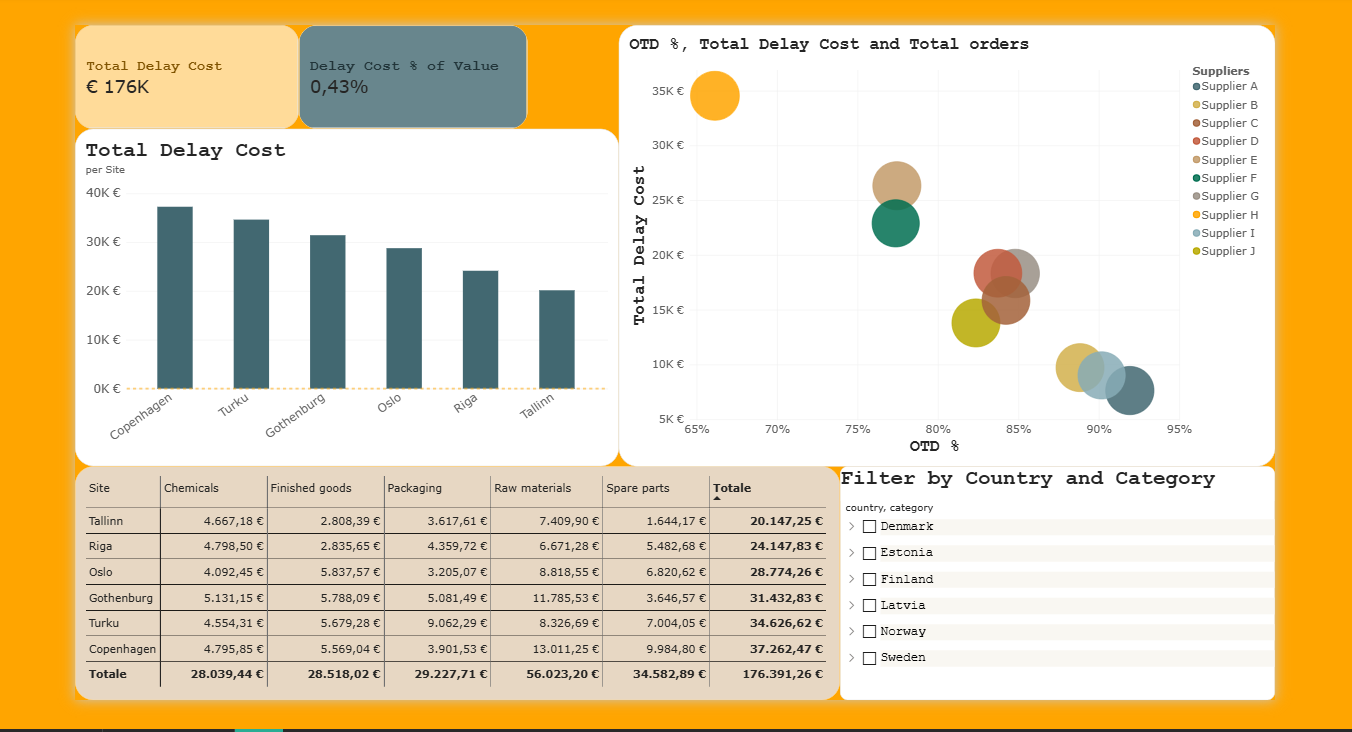

This screenshot's page, from the dashboard's own definition file:
{"tool":"powerbi","page":{"name":"Cost Impact","canvas":[1920,1080],"ordinal":1},"visuals":[{"type":"cardVisual","fields":{"Data":["_Measures.Total Delay Cost"]},"box":[0,0,358,166],"z":0},{"type":"cardVisual","title":"AVG Delay Days","fields":{"Data":["_Measures.Delay Cost % of Value"]},"box":[358,0,366,166],"z":1000},{"type":"clusteredColumnChart","fields":{"Category":["sites.site_name"],"Y":["_Measures.Total Delay Cost"]},"box":[0,166,870,540],"z":2000},{"type":"pivotTable","fields":{"Columns":["orders.category"],"Rows":["sites.site_name"],"Values":["_Measures.Total Delay Cost"]},"box":[0,706,1224,374],"z":3000},{"type":"scatterChart","title":"OTD %, Total Delay Cost and Total orders","fields":{"Category":["suppliers.supplier_name"],"Series":["suppliers.supplier_name"],"Size":["_Measures.Orders"],"X":["_Measures.OTD %"],"Y":["_Measures.Total Delay Cost"]},"box":[870,0,1050,706],"z":4000},{"type":"slicer","title":"Filter by Country and Category","fields":{"Values":["sites.country","orders.category"]},"box":[1224,706,696,374],"z":5000}]}

Visuals, with their boxes on the page's 1920x1080 design canvas (x1, y1, x2, y2). These are canvas units, not pixel positions in the 1352x732 screenshot, which may show the page scaled, cropped or inside an application window:
cardVisual - _Measures.Total Delay Cost: 0/0/358/166
"AVG Delay Days" cardVisual: 358/0/724/166
clusteredColumnChart - sites.site_name x _Measures.Total Delay Cost: 0/166/870/706
pivotTable - orders.category x sites.site_name: 0/706/1224/1080
"OTD %, Total Delay Cost and Total orders" scatterChart: 870/0/1920/706
"Filter by Country and Category" slicer: 1224/706/1920/1080
